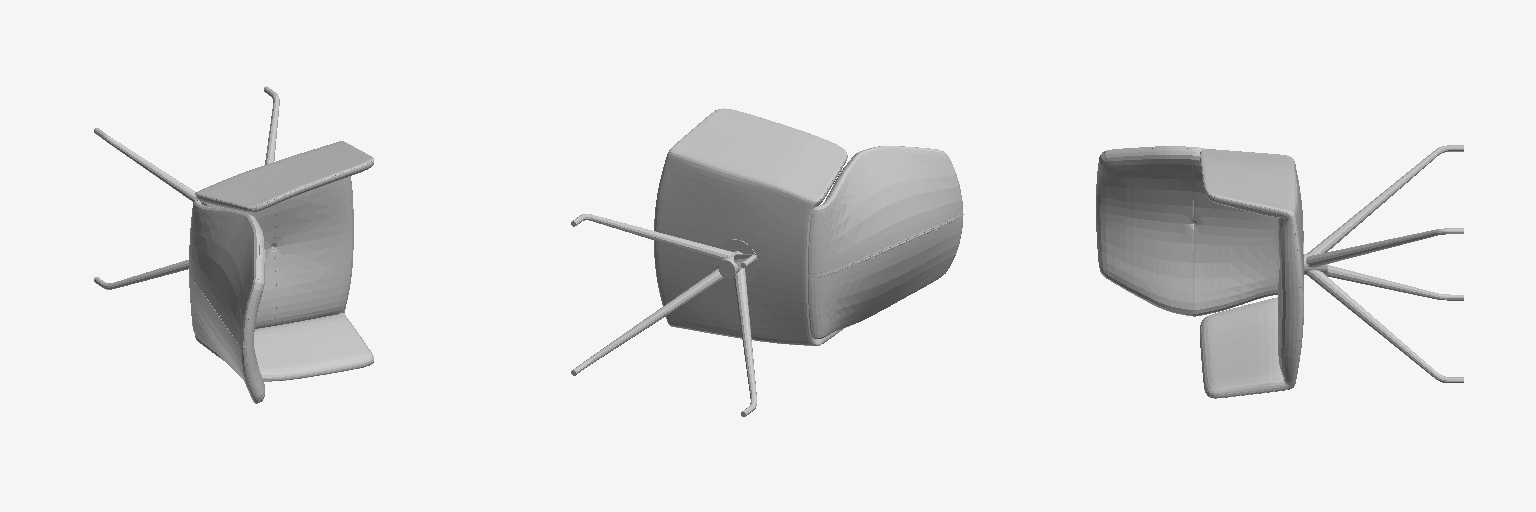
Rendered from Chair.obj.
3 views of the same model, side by side, from view 1: azimuth 30°, elevation 25°; view 2: azimuth 150°, elevation 25°; view 3: azimuth 270°, elevation 25° (orthographic).
Visible parts, largest first — view 1: Box016, Line021; view 2: Box016, Line021; view 3: Box016, Line021.
Boxes of the visible parts, x1=… form: Box016: x1=189, y1=141, x2=373, y2=403; Line021: x1=95, y1=87, x2=279, y2=289; Box016: x1=654, y1=108, x2=963, y2=345; Line021: x1=573, y1=214, x2=758, y2=414; Box016: x1=1096, y1=146, x2=1303, y2=398; Line021: x1=1303, y1=145, x2=1461, y2=382.
Size of the model in its own units: 580 by 541 by 884.